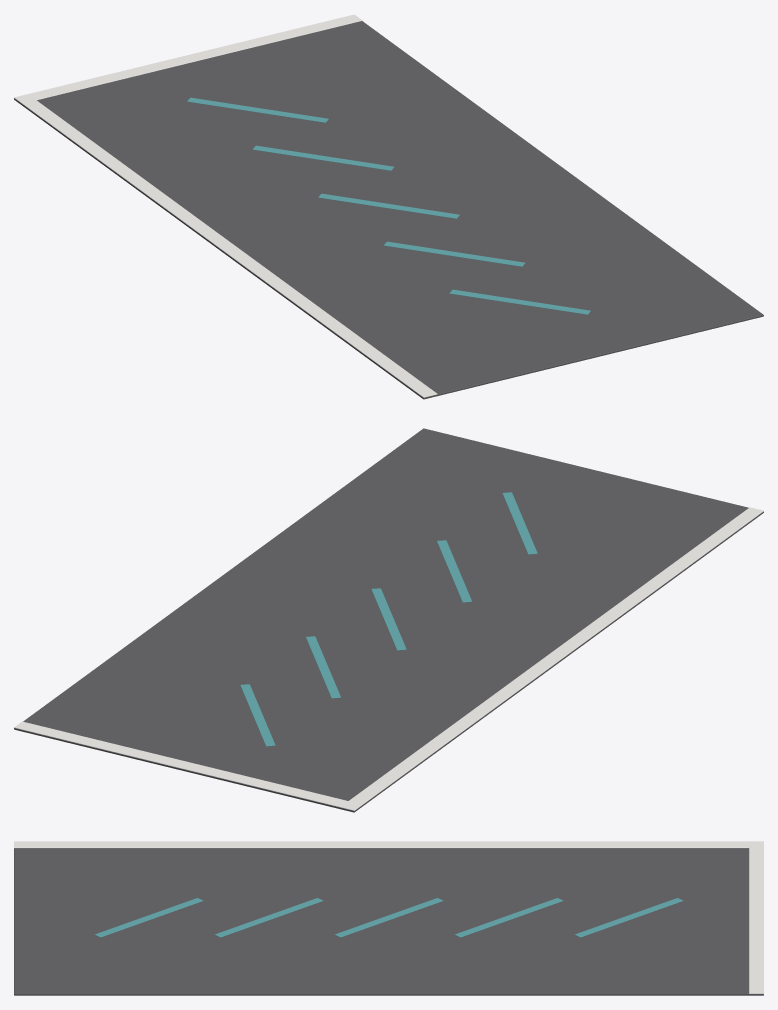
The model's file is fast-food-and-drive-thru-car-park-bay-marking-75d3a826__16202.glb.
The picture shows the model from 3 angles, top to bottom: view 1: azimuth 30°, elevation 25°; view 2: azimuth 150°, elevation 25°; view 3: azimuth 270°, elevation 25°; orthographic projection. The views are drawn at different scales.
Parts seen in each view (by area): view 1: car-park-bay-marking; view 2: car-park-bay-marking; view 3: car-park-bay-marking.
Boxes of the visible parts, x1=… form: car-park-bay-marking: x1=14, y1=14, x2=763, y2=399; car-park-bay-marking: x1=14, y1=428, x2=763, y2=812; car-park-bay-marking: x1=14, y1=841, x2=763, y2=995.
Size of the model in its own units: 2.4 by 0.0162 by 5.
